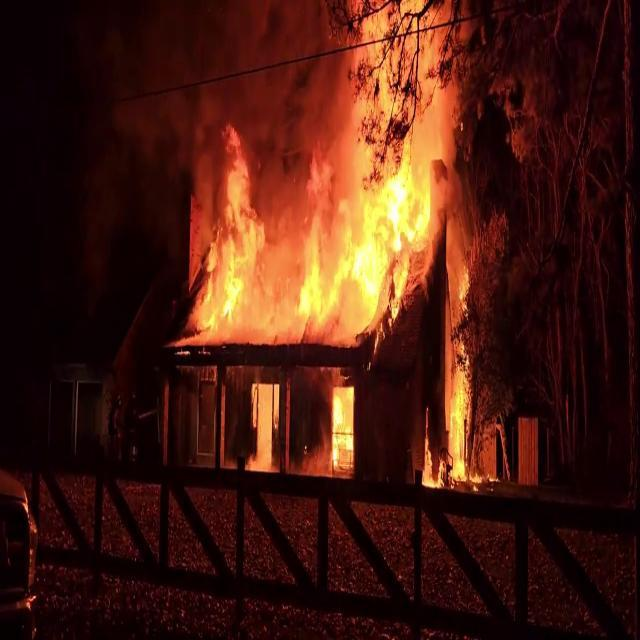Fire: (173, 1, 482, 372)
